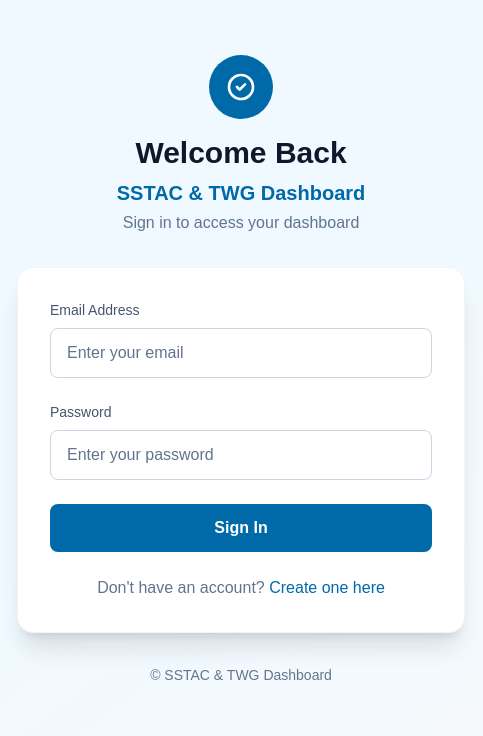
it: LoginPage redirect handling (D9 safeRedirectPath) › does not push on a failed sign-in
The image size is (483, 736).
Type "page-test-placeholder@example.test" into the field labelled "Email Address".
click(241, 353); type("page-test-placeholder@example.test")  # box [50,328,432,378]
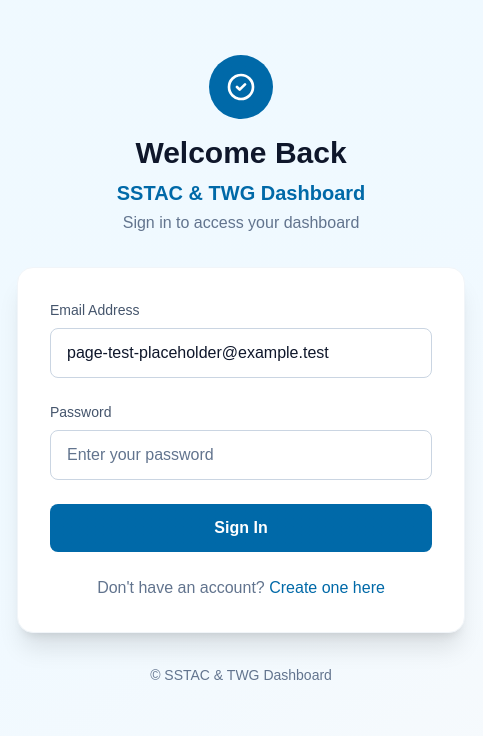
Type "not-a-secret-placeholder" into the password field labelled "Password".
click(241, 455); type("not-a-secret-placeholder")  # box [50,430,432,480]
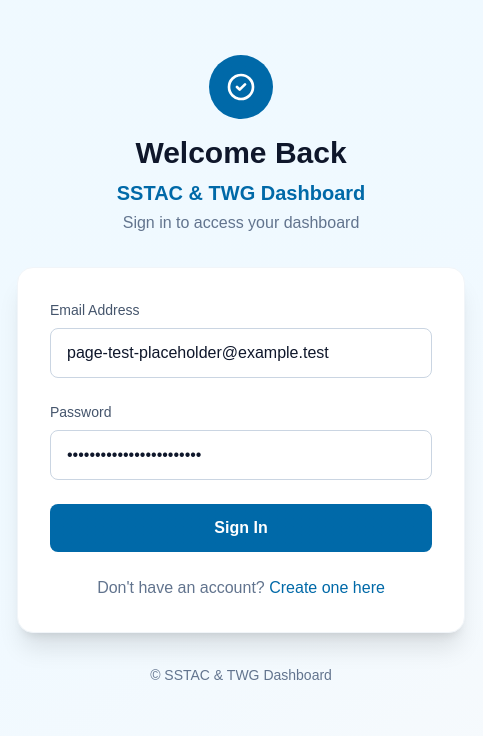
Click the button "Sign In".
click(241, 528)  # box [50,504,432,552]
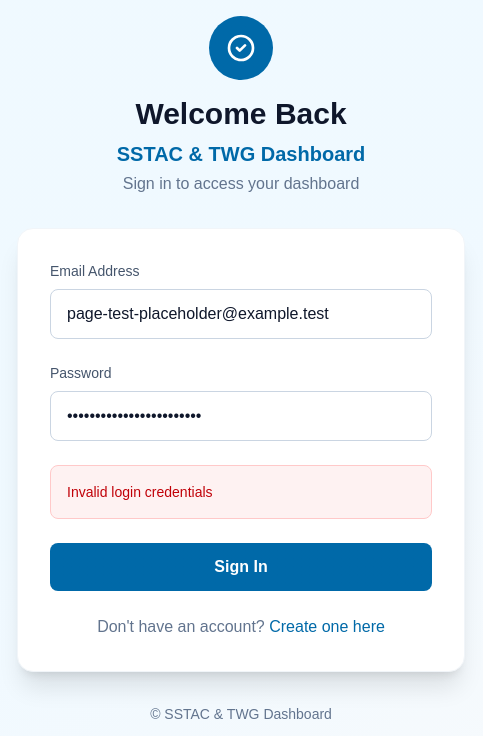
Now the message "Invalid login credentials" is shown, box [50,465,432,519]
